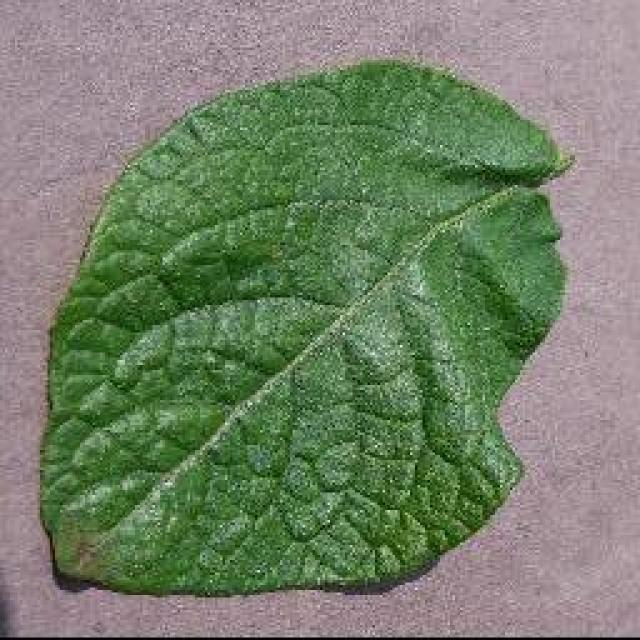Potato___healthy: (38, 60, 575, 592)
